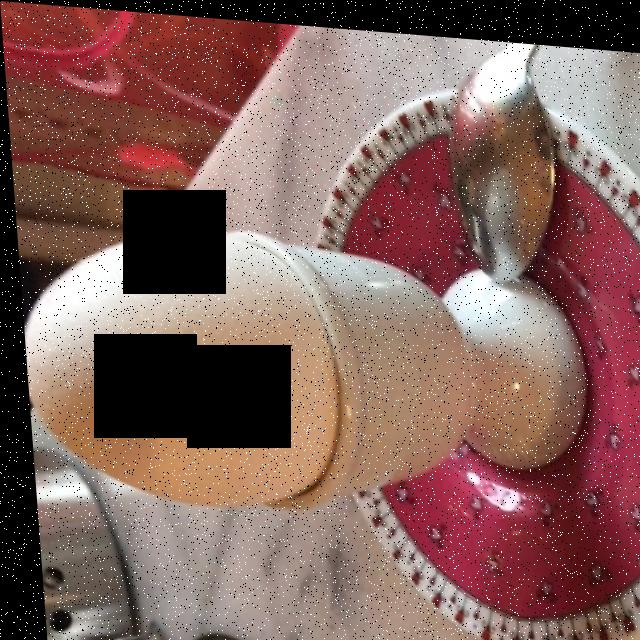egg: (27, 235, 330, 500)
